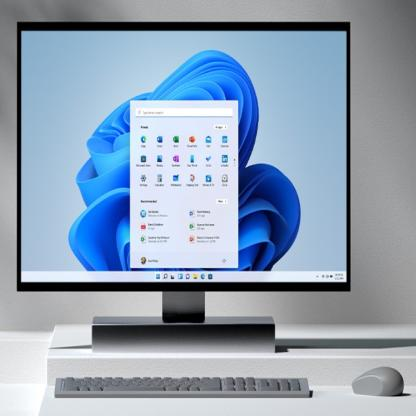DESKTOP: (11, 16, 416, 416)
